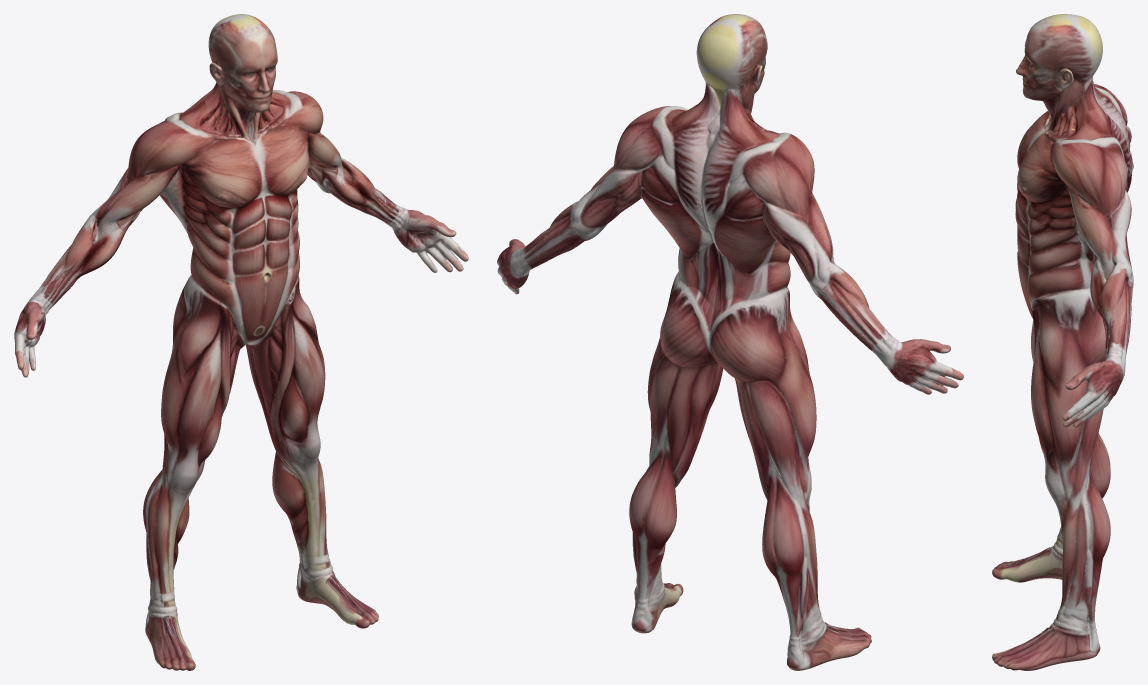
File: Meshy_AI_Anatomy_Illustration_0618034359_texture_optimized.glb
The picture shows the model from 3 angles, left to right: view 1: azimuth 30°, elevation 25°; view 2: azimuth 150°, elevation 25°; view 3: azimuth 270°, elevation 25°; orthographic projection. The views are drawn at different scales.
Size of the model in its own units: 1.47 by 1.9 by 0.4028.
Materials: 1 (1 with a texture image).
